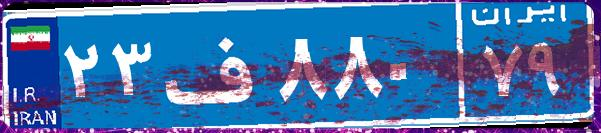0: (385, 28, 445, 110)
2: (57, 26, 110, 107)
3: (110, 28, 158, 105)
7: (475, 38, 525, 113)
8: (273, 28, 330, 110), (330, 28, 385, 110)
9: (525, 38, 570, 115)
ف: (158, 15, 273, 115)
